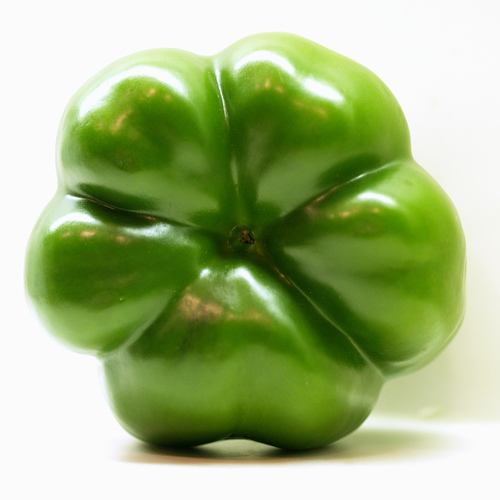capsicum: (25, 32, 468, 457)
